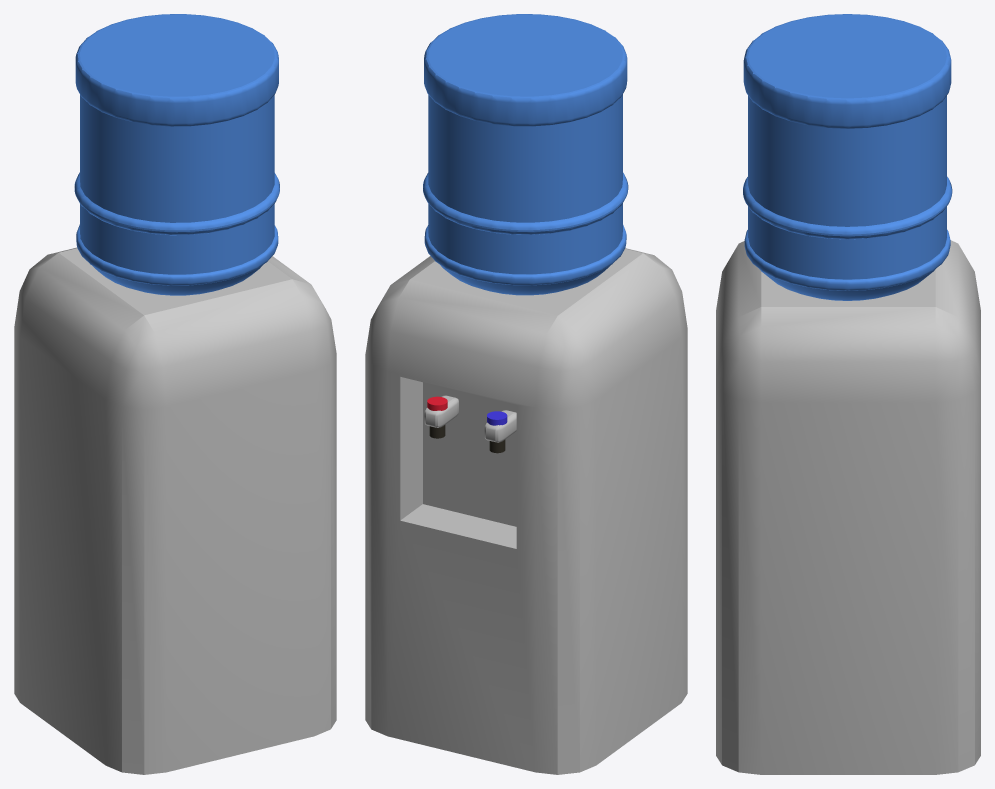
The model's file is Water.fbx.
3 renders of one model, left to right at view 1: azimuth 30°, elevation 25°; view 2: azimuth 150°, elevation 25°; view 3: azimuth 270°, elevation 25°, orthographic.
Parts seen in each view (by area): view 1: Cylinder.002; view 2: Cylinder.002; view 3: Cylinder.002.
Boxes of the visible parts, left/top/right/bottom form: Cylinder.002: left=14, top=14, right=336, bottom=774; Cylinder.002: left=365, top=14, right=687, bottom=774; Cylinder.002: left=716, top=14, right=980, bottom=774.
Size of the model in its own units: 509 by 1406 by 509.
